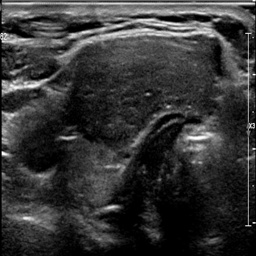mass: (69, 37, 220, 152)
